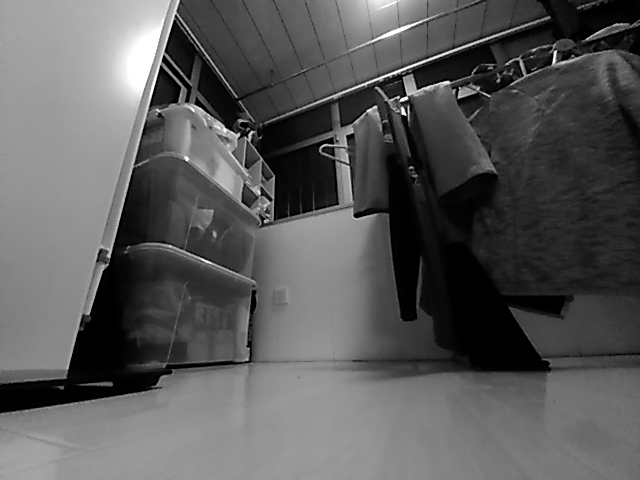others: (432, 316, 553, 372)
